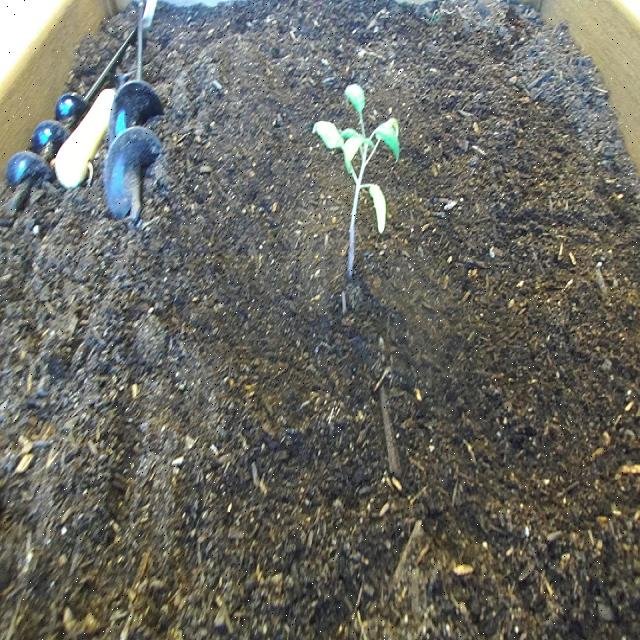Healthy: (310, 78, 402, 292)
